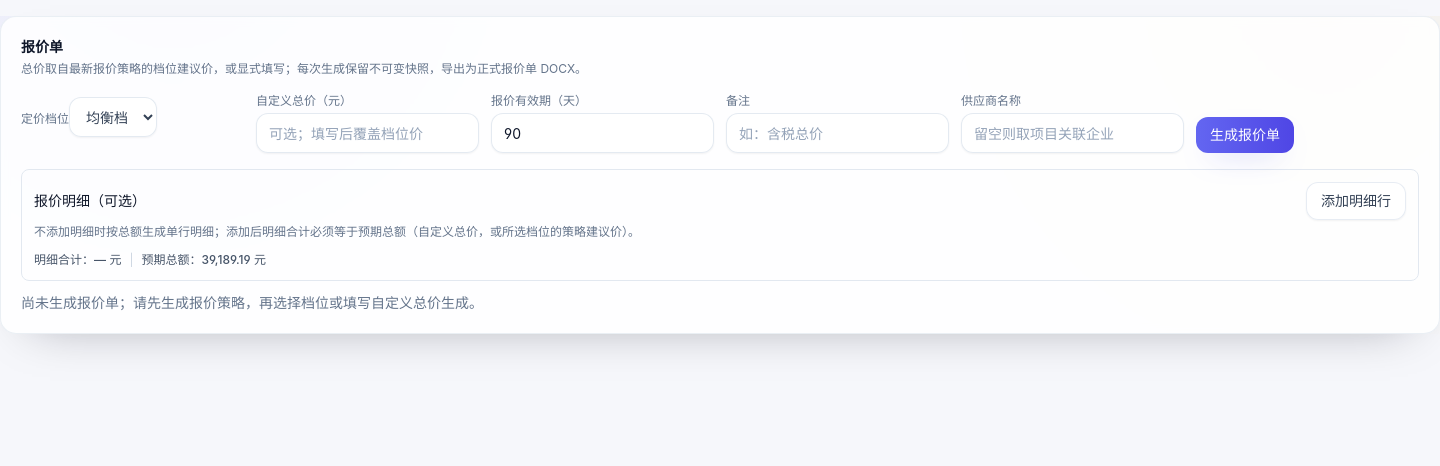
QuoteSheetPanel › 明细合计与预期总额不一致时禁用生成并给出琥珀提示，修正后恢复
This screenshot has width=1440, height=466.
Expected: the text "尚未生成报价单；请先生成报价策略，再选择档位或填写自定义总价生成。" is shown, [21,294,483,311]
Click the button "添加明细行". click: (1356, 201)
box: [1306,182,1406,220]
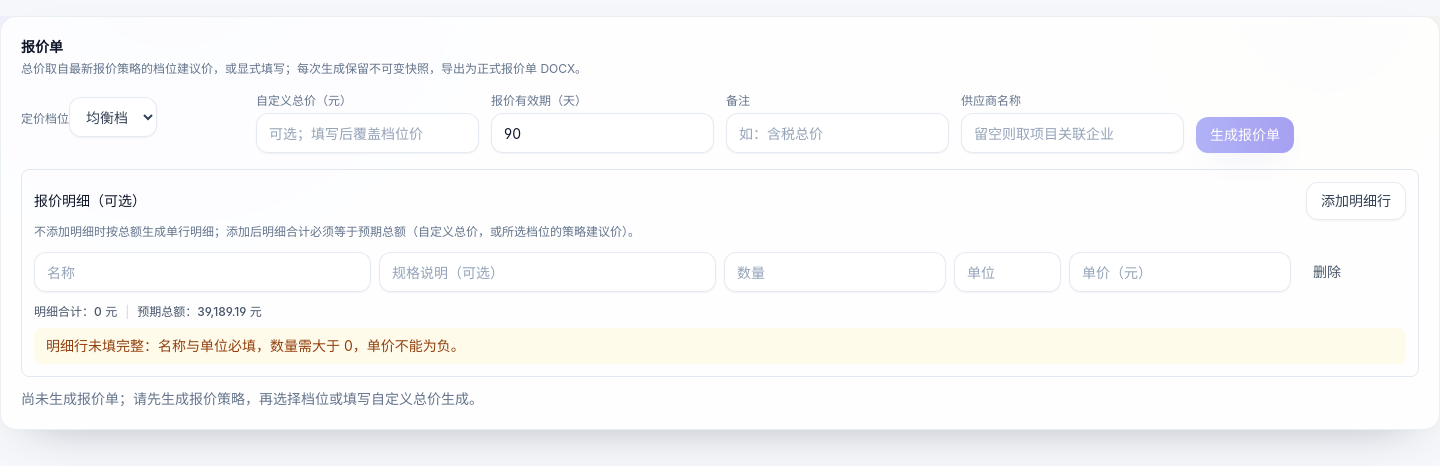
Type "软件开发" into the field named "明细第1行名称". click: (202, 272)
box: [34,252,371,292]
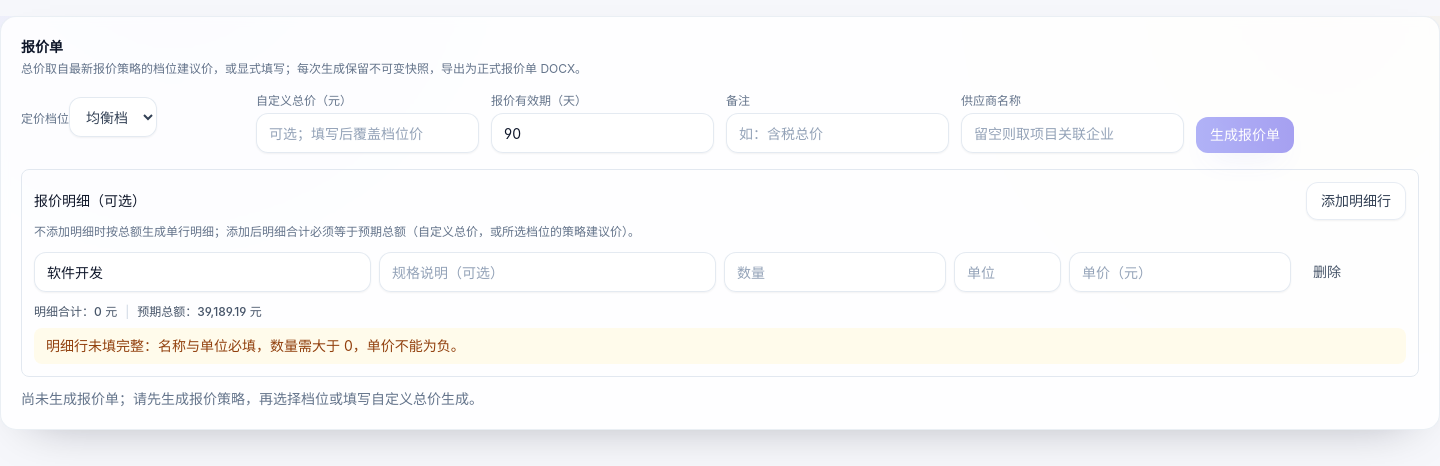
Type "1" into the field named "明细第1行数量". click: (835, 272)
box: [724,252,946,292]
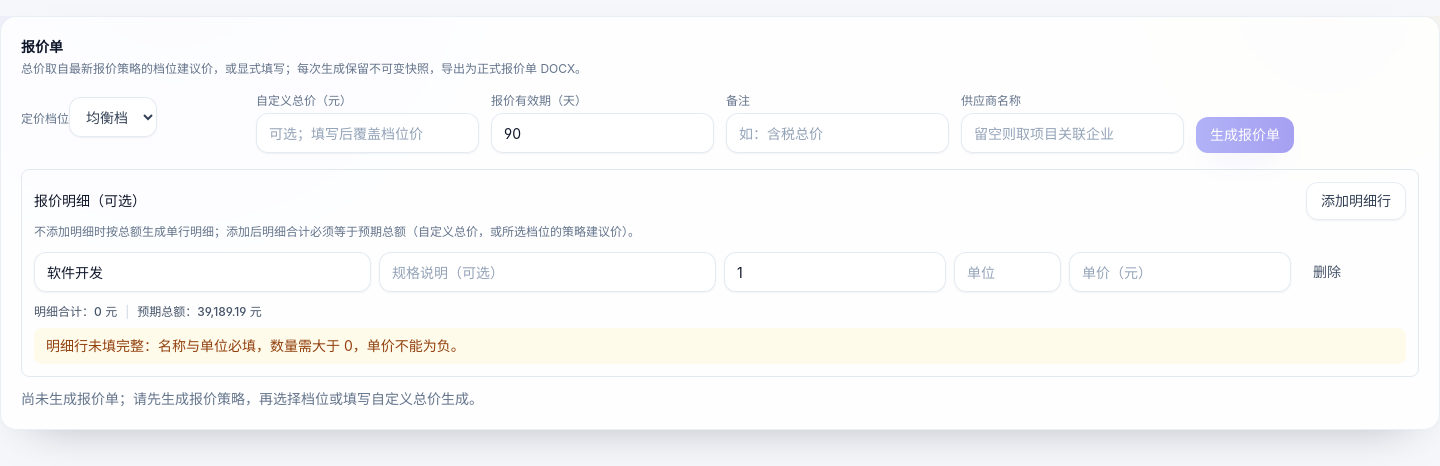
Type "项" into the field named "明细第1行单位". click: (1008, 272)
box: [954,252,1061,292]
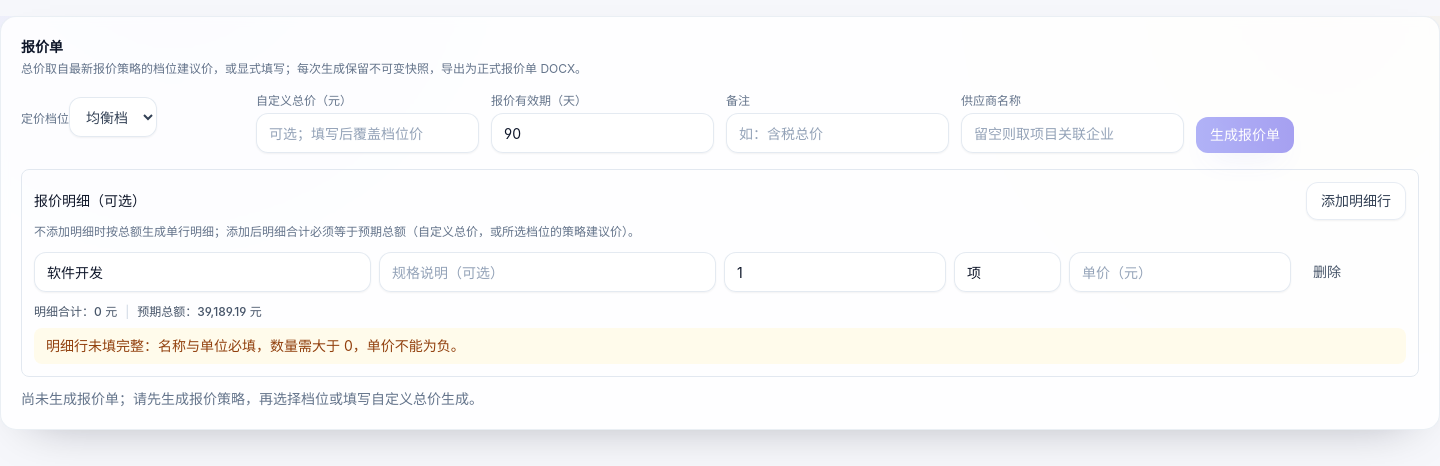
Type "30000" into the field named "明细第1行单价". click: (1180, 272)
box: [1069,252,1291,292]
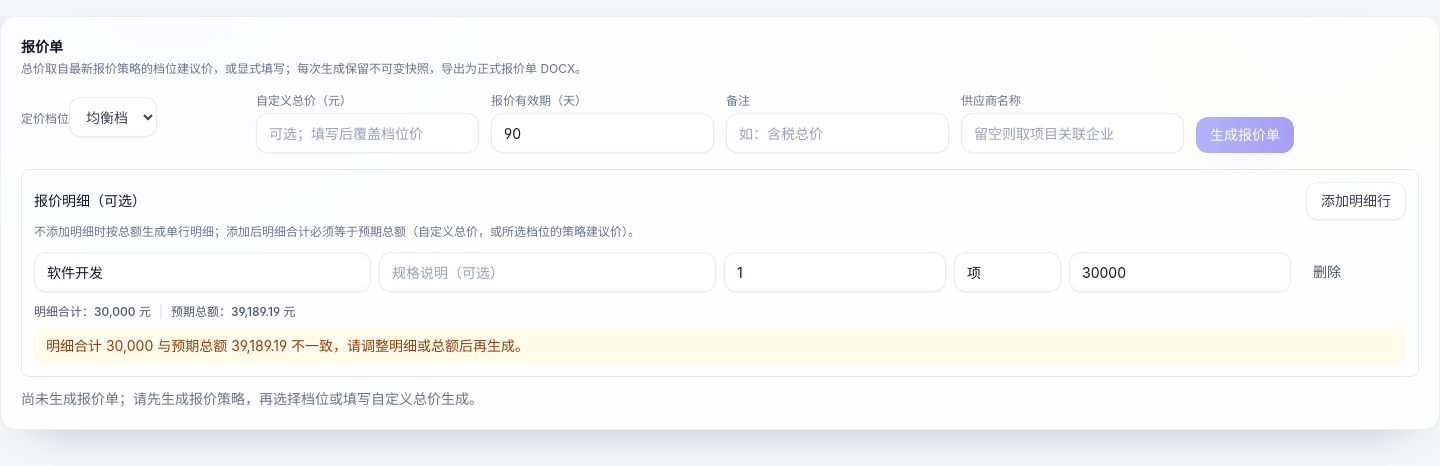
Now the button "生成报价单" is disabled, box [1196,117,1294,153]
Now the text "明细合计 30,000 与预期总额 39,189.19 不一致，请调整明细或总额后再生成。" is shown, box [34,328,1406,364]
Replace the text in the field named "明细第1行单价" with "39189.19". click: (1180, 272)
box: [1069,252,1291,292]
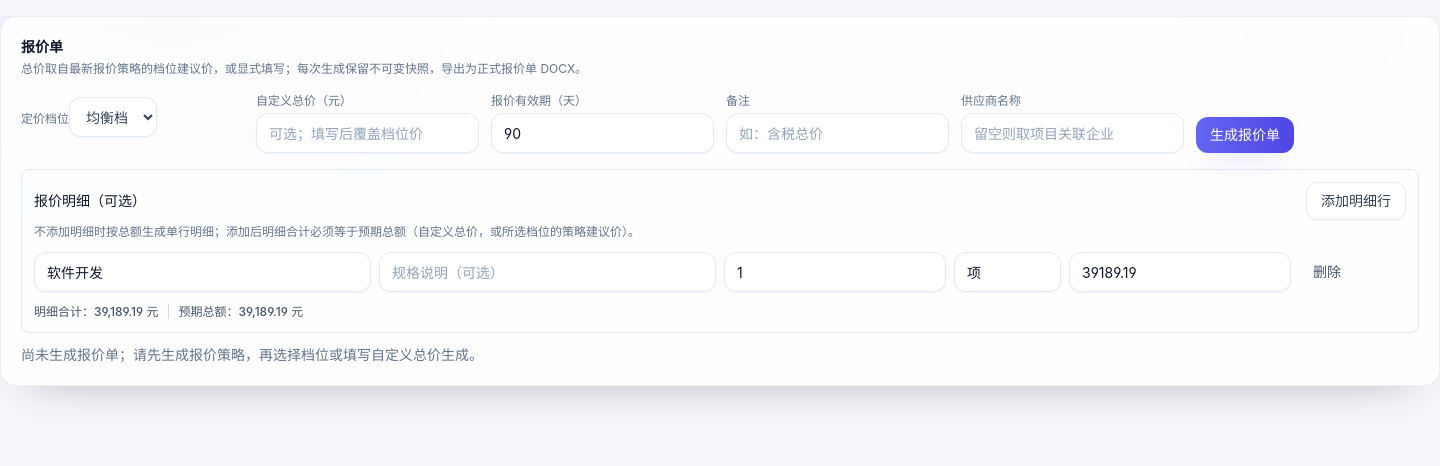
Now the button "生成报价单" is enabled, box [1196,117,1294,153]
Now the text "明细合计 30,000 与预期总额 39,189.19 不一致，请调整明细或总额后再生成。" is gone
